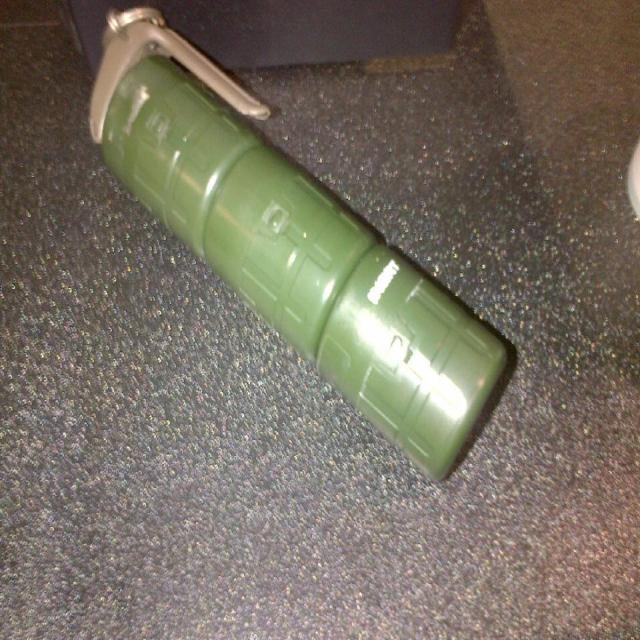grenade: (88, 2, 514, 489)
